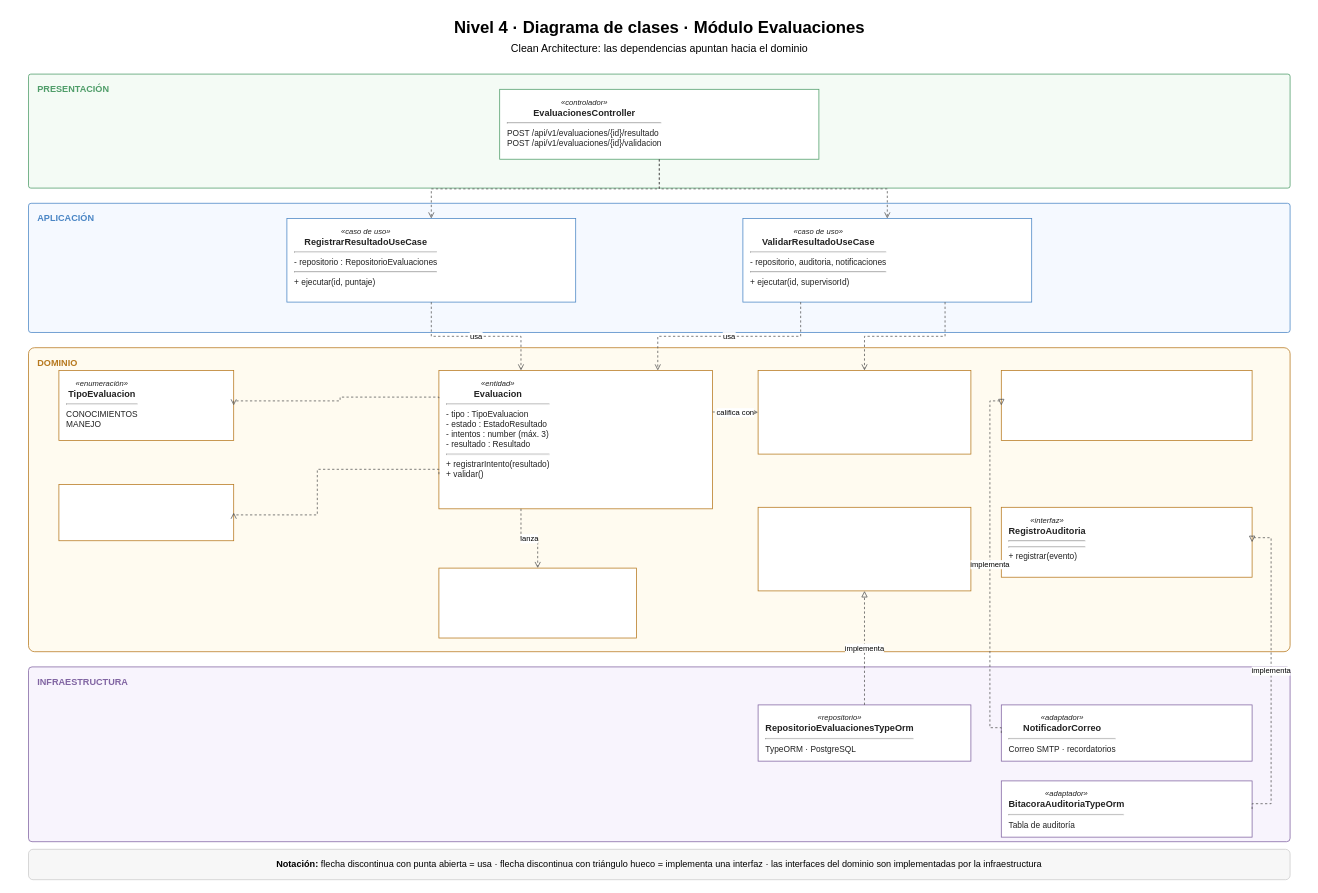
Some shapes in this 1318 by 893 pixel diagram are drawn without their labels. The box of each missing label's shape, as (x1, y1, x2, y2) in pixels:
«dominio» Excepciones IntentosAgotadosError ResultadoBloqueadoError: (438, 567, 636, 638)
«enumeración» EstadoResultado PENDIENTE · REGISTRADO · VALIDADO: (58, 484, 234, 541)
«interfaz» CalificacionStrategy Conocimientos · Manejo + calificar(puntaje): (757, 370, 971, 454)
«interfaz» RepositorioEvaluaciones + buscarPorId(id) + guardar(evaluacion): (757, 507, 971, 591)
«interfaz» ServicioNotificaciones + notificar(postulante, mensaje): (1001, 370, 1252, 440)
